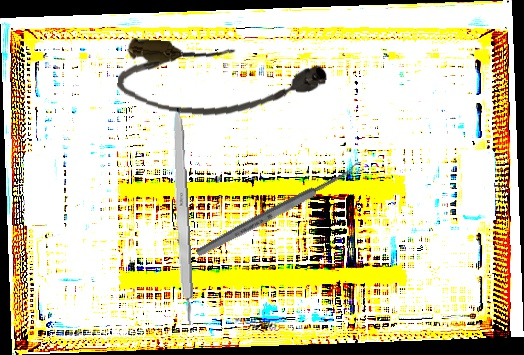Cannula: (115, 37, 329, 126)
Scalpel Handle: (168, 107, 195, 326)
Surgical Spoon: (194, 160, 366, 259)
